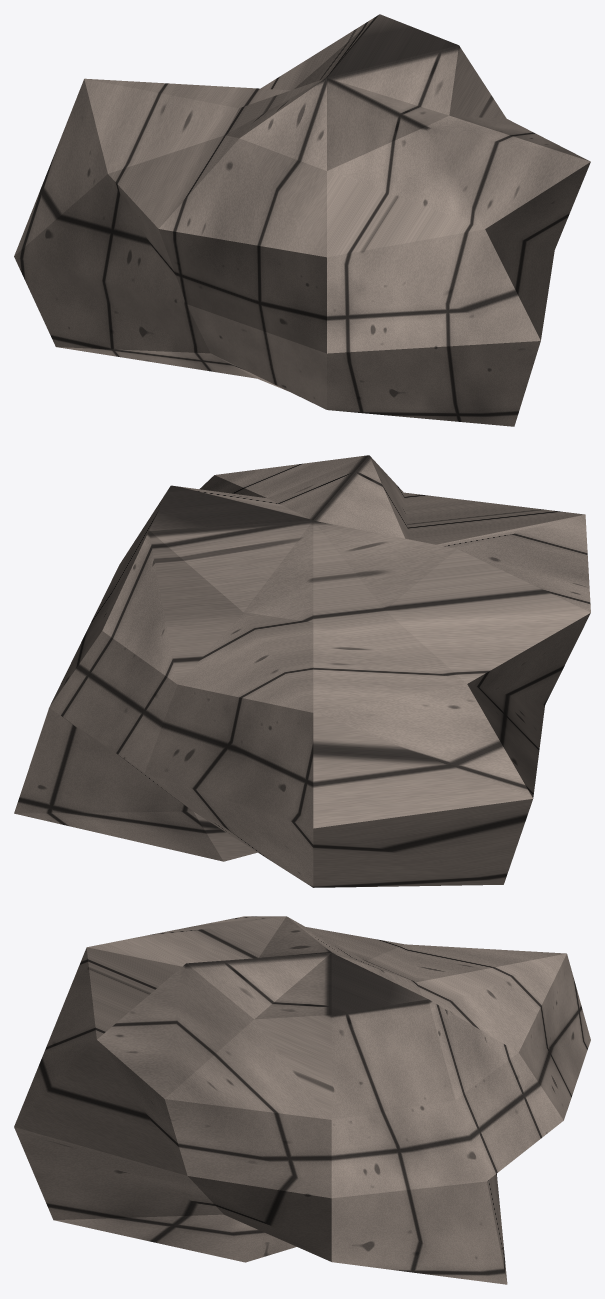
File: rock.glb
3 views of the same model, one above another, from view 1: azimuth 30°, elevation 25°; view 2: azimuth 150°, elevation 25°; view 3: azimuth 270°, elevation 25° (orthographic). The views are drawn at different scales.
Visible parts, largest first — view 1: rock; view 2: rock; view 3: rock.
Part boxes in pixels (x1,y1,x2,y2): rock: [14, 14, 590, 426]; rock: [14, 455, 590, 887]; rock: [14, 916, 590, 1284].
Bounding box in the file's own units: 2.01 × 1.16 × 2.26.
1 material, 1 textured.
